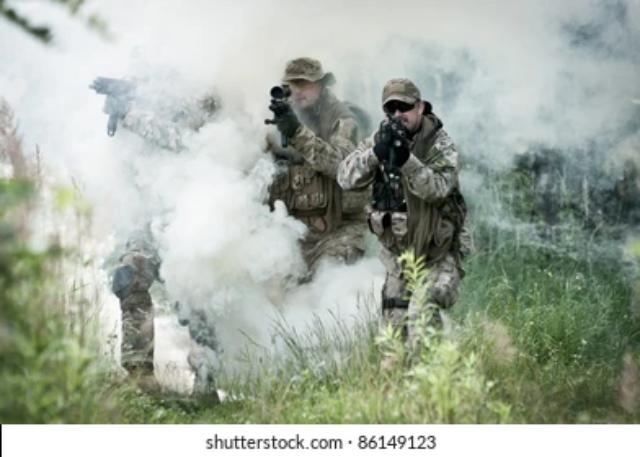other: (66, 48, 238, 407), (369, 80, 467, 323), (272, 43, 371, 266)
